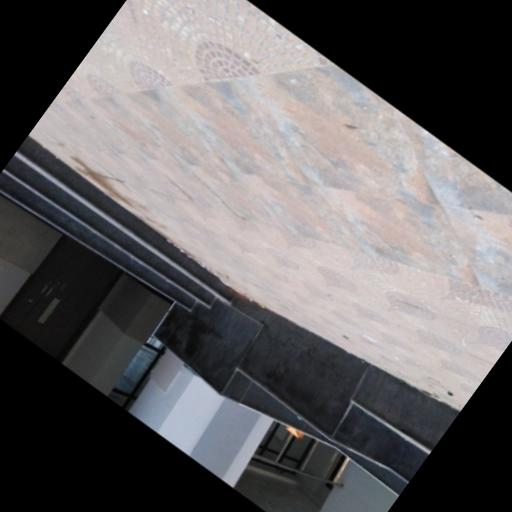stairs: (0, 136, 235, 309), (336, 366, 459, 482)
